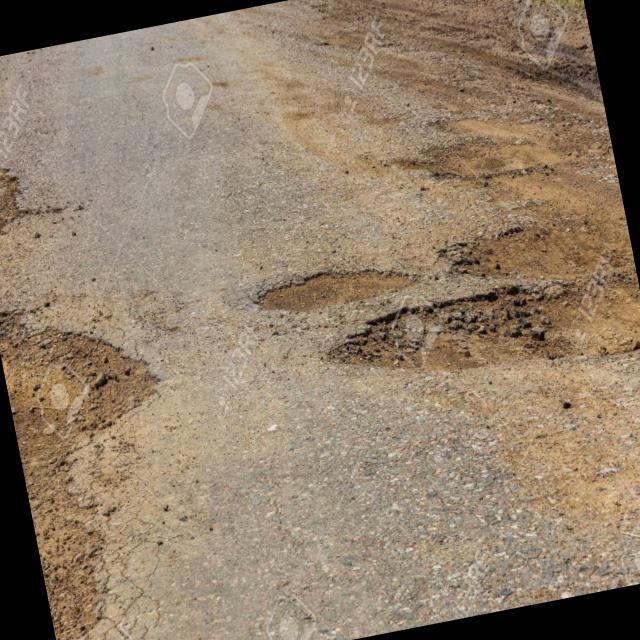Pothole: (0, 309, 194, 635), (344, 282, 596, 415), (440, 195, 610, 292), (250, 242, 430, 320), (414, 121, 553, 215), (0, 154, 37, 257)
